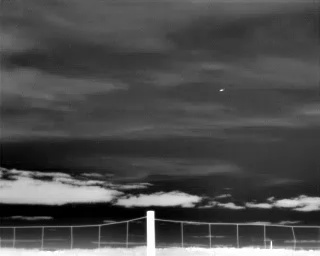AIRPLANE: (218, 86, 226, 94)
